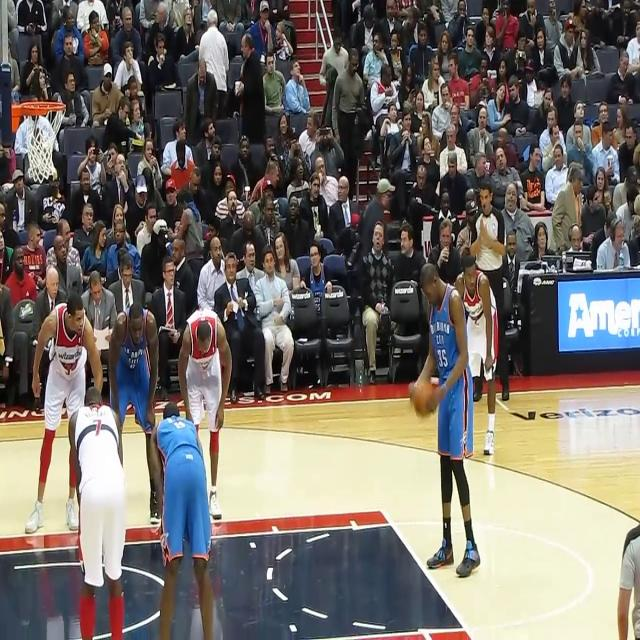ball: (411, 381, 439, 418)
